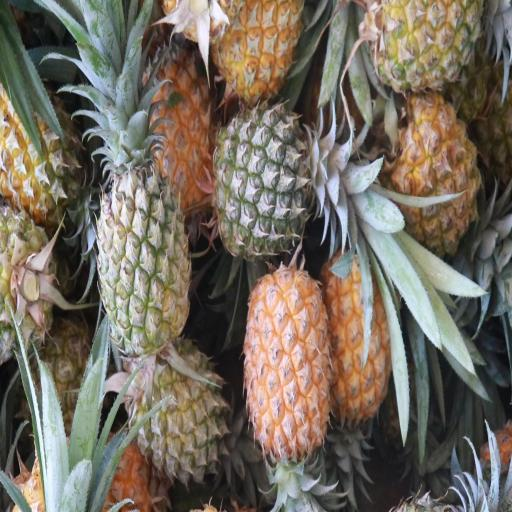------------------------------: (97, 149, 190, 346), (134, 343, 226, 477), (0, 94, 80, 217), (374, 0, 483, 87)
Pineapple - v8 v1: (246, 269, 330, 454), (389, 97, 478, 249), (324, 248, 395, 412), (140, 44, 213, 203), (217, 0, 303, 101)
